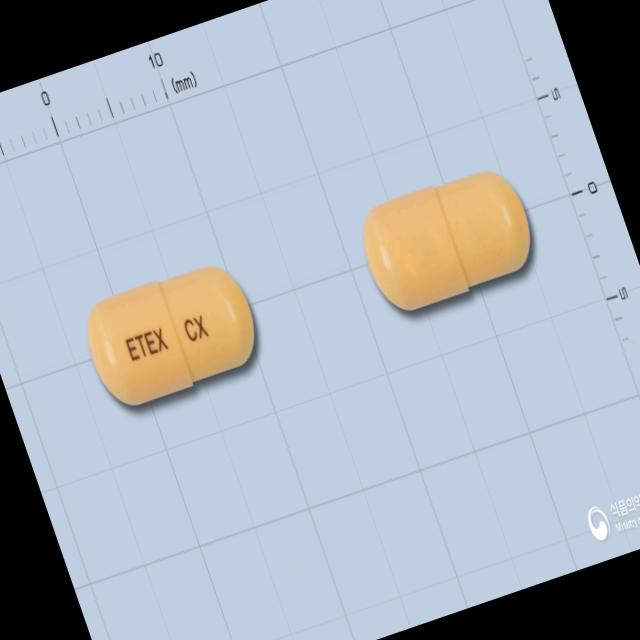Cefixime Cap- Etex: (68, 248, 276, 427)
